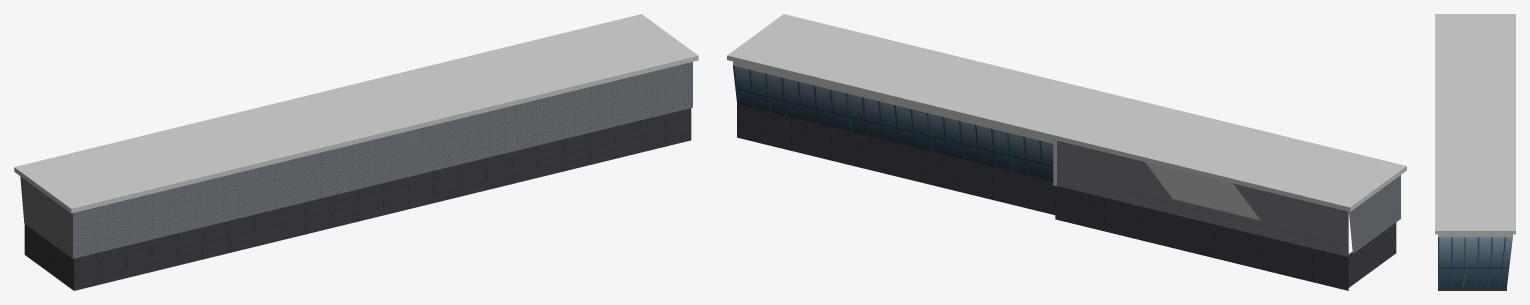
Rendered from pasar-seni-mrt-entrance-b.glb.
3 views of the same model, side by side, from view 1: azimuth 30°, elevation 25°; view 2: azimuth 150°, elevation 25°; view 3: azimuth 270°, elevation 25° (orthographic). The views are drawn at different scales.
Visible parts, largest first — view 1: PasarSeniHall; view 2: PasarSeniHall; view 3: PasarSeniHall.
Part boxes in pixels (bbox=[...]): PasarSeniHall: bbox=[14, 14, 698, 290]; PasarSeniHall: bbox=[727, 14, 1406, 290]; PasarSeniHall: bbox=[1435, 14, 1515, 290].
Bounding box in the file's own units: 42.5 × 5.6 × 6.7.
6 materials, 4 textured.
